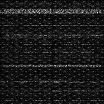lte: (1, 8, 104, 14), (1, 64, 104, 68)
